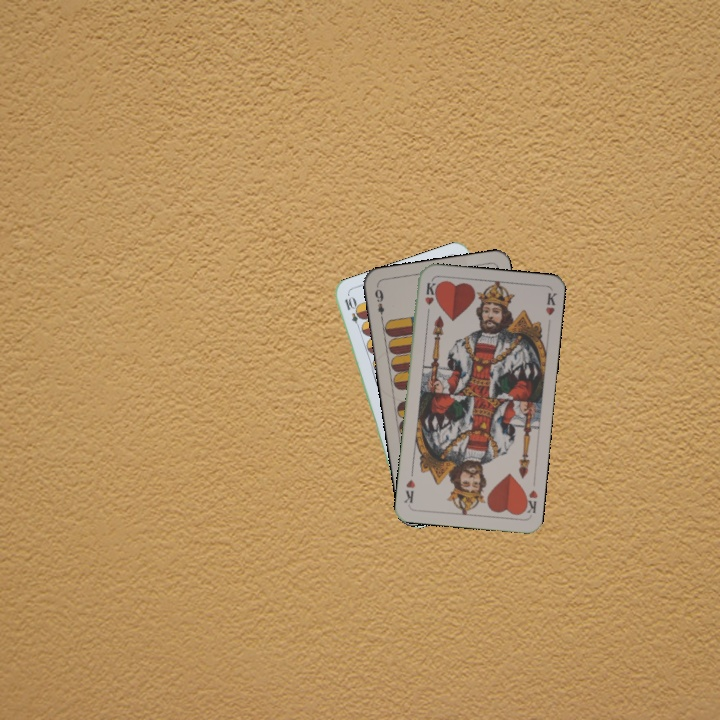E10: (340, 293, 364, 333)
E9: (371, 283, 387, 323)
HK: (421, 279, 439, 318), (519, 486, 540, 516)
